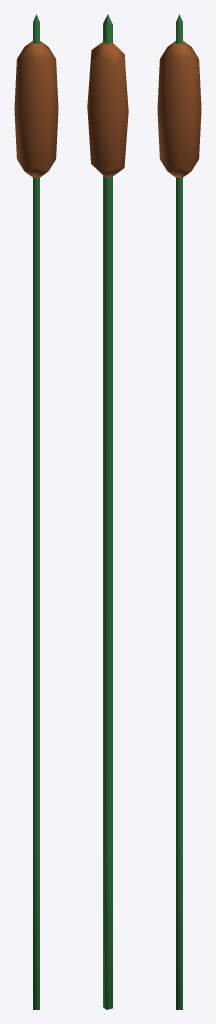
File: SM_Cattail_Straight.fbx
3 renders of one model, left to right at view 1: azimuth 90°, elevation 25°; view 2: azimuth 210°, elevation 25°; view 3: azimuth 270°, elevation 25°, orthographic.
Visible parts, largest first — view 1: Cattail_Straight; view 2: Cattail_Straight; view 3: Cattail_Straight.
Part boxes in pixels (bbox=[...]): Cattail_Straight: bbox=[14, 14, 58, 1009]; Cattail_Straight: bbox=[87, 14, 128, 1009]; Cattail_Straight: bbox=[157, 14, 201, 1009].
Bounding box in the file's own units: 8.01 × 200 × 8.01.
